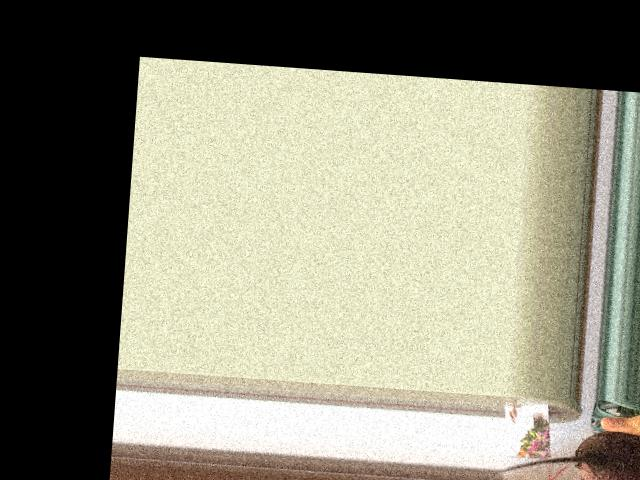beet: (496, 423, 640, 480)
